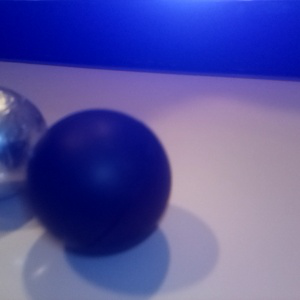alive_ball: (1, 87, 53, 233)
dead_ball: (27, 108, 172, 255)
